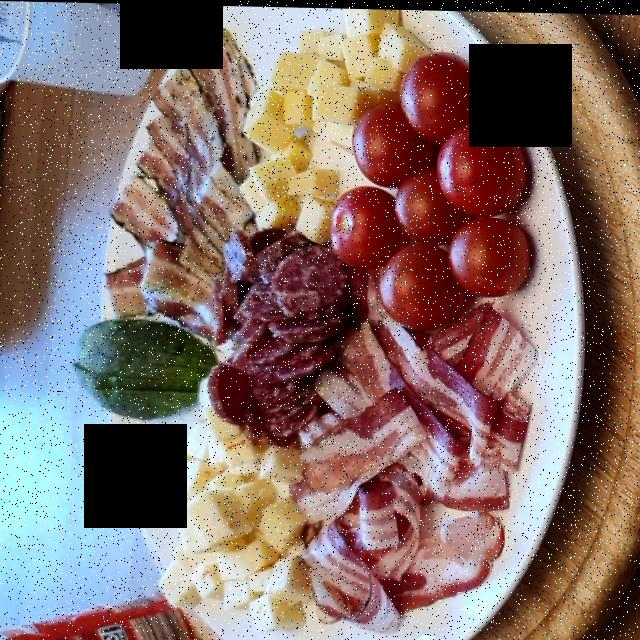avocado: (77, 327, 205, 418)
bacon-raw: (109, 22, 520, 617)
cheese: (139, 11, 419, 637)
salami: (208, 209, 360, 443)
tomato-raw: (339, 60, 541, 312)
